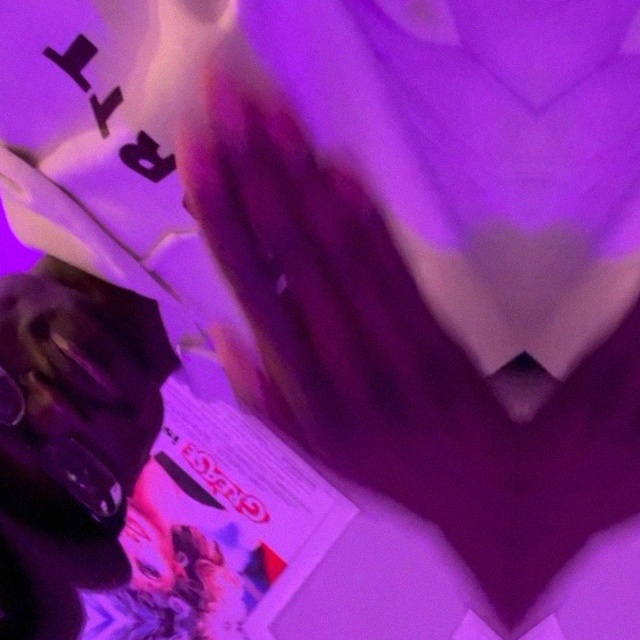Paper: (56, 28, 540, 571)
